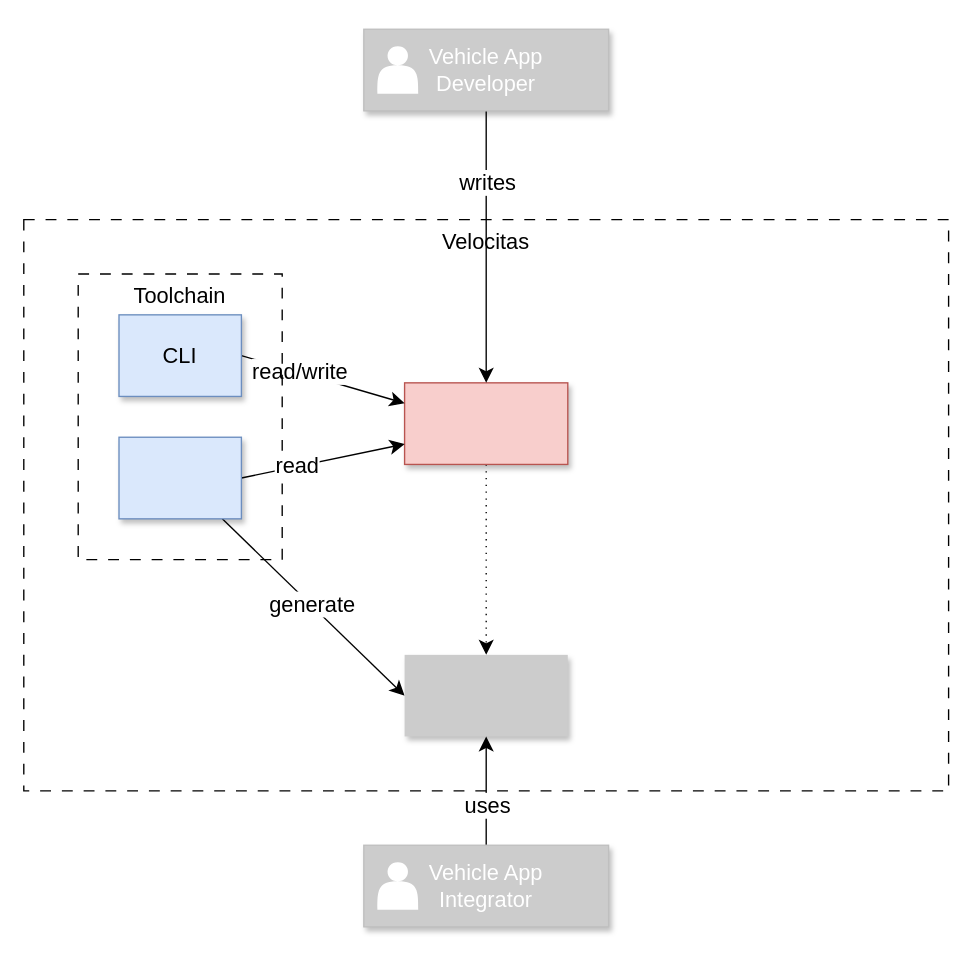
Image size: 972x960. Some labels were removed from this diagram. Here are the shapes that lost their labels. From the top down, the centre of each, then its label:
At (487,425): "AppManifest".
At (181,479): "Packages".
At (486,697): "Deployment Spec".
